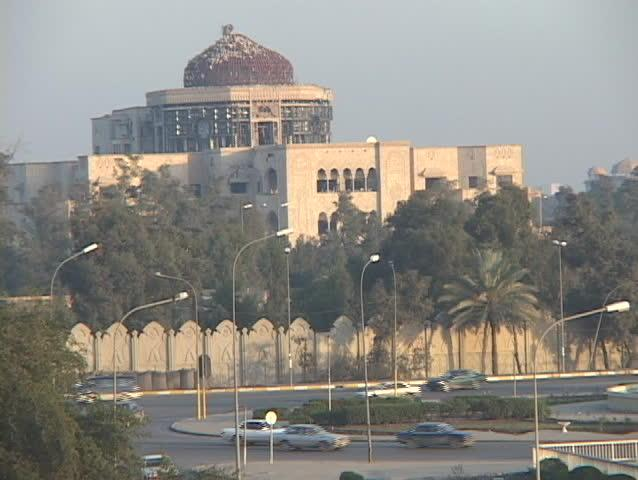car: (267, 423, 352, 452), (393, 422, 474, 450), (220, 418, 297, 447), (75, 374, 142, 403), (350, 381, 423, 403), (426, 368, 487, 392), (134, 453, 181, 480), (107, 398, 144, 429)
